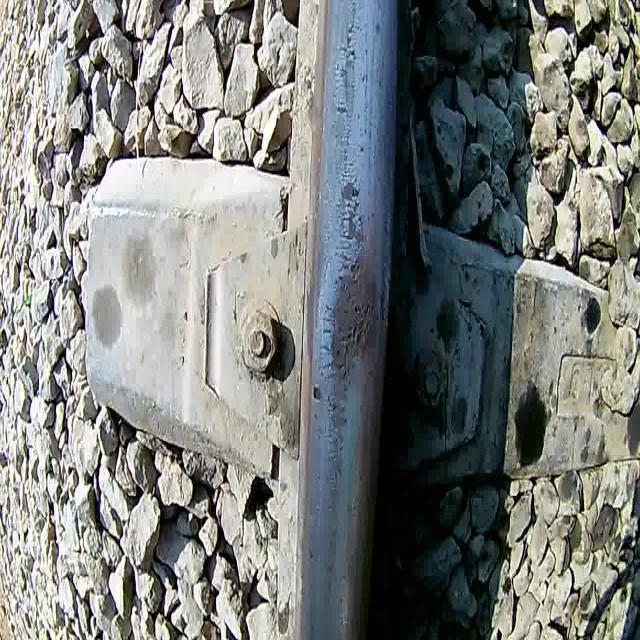Squats: (326, 252, 382, 437), (337, 174, 368, 252), (309, 375, 324, 409)
